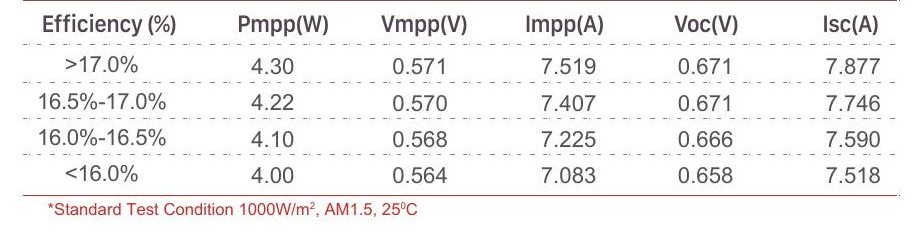table: (14, 1, 915, 222)
table column: (33, 2, 196, 193), (218, 3, 352, 194), (367, 3, 496, 194), (515, 2, 626, 193), (653, 1, 761, 193), (809, 3, 897, 193)
table column header: (21, 4, 916, 42)
table row: (21, 3, 910, 43), (20, 48, 912, 80), (21, 122, 913, 152), (22, 160, 912, 190), (20, 87, 913, 116)
